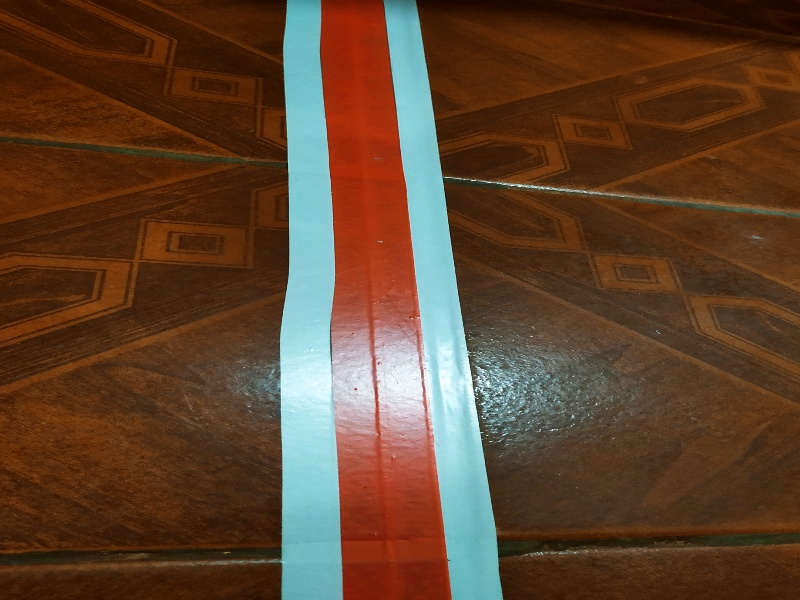reta: (258, 6, 504, 600)
